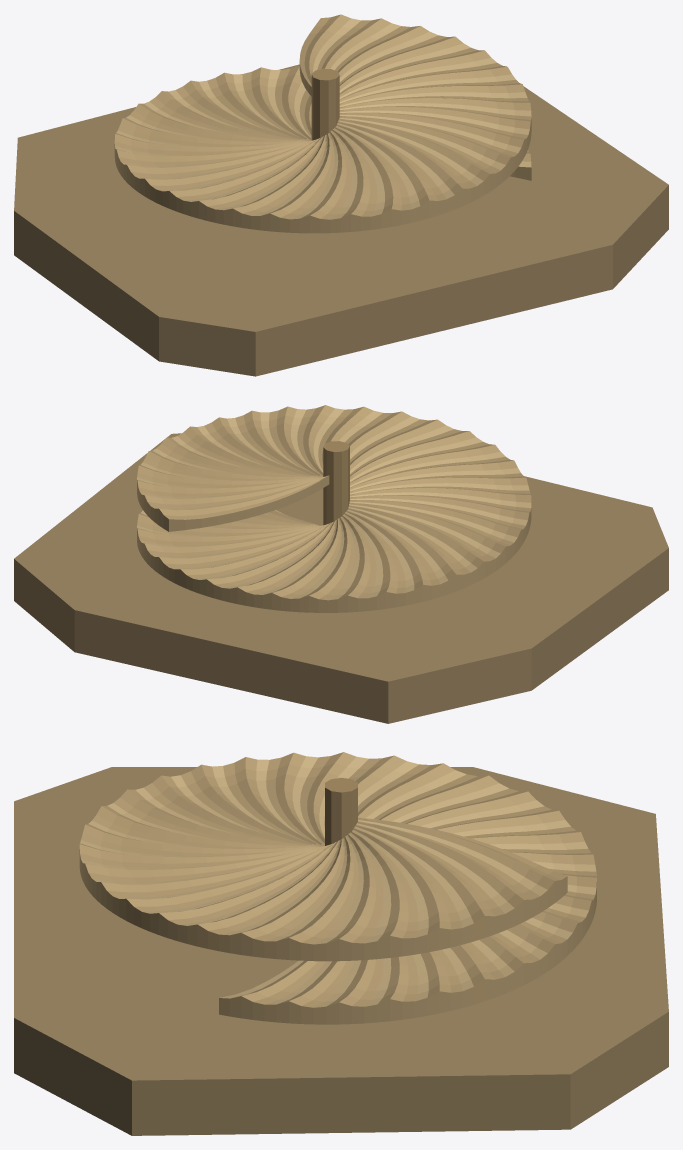
The model's file is zoophycos-spiral-spreite.glb.
3 renders of one model, top to bottom at view 1: azimuth 30°, elevation 25°; view 2: azimuth 150°, elevation 25°; view 3: azimuth 270°, elevation 25°, orthographic. The views are drawn at different scales.
Parts seen in each view (by area): view 1: solid-quiet-sediment-slab, broad-spiral-spreite-sheet-with-integrated-lamellae-and-marg, narrow-cylindrical-central-shaft; view 2: solid-quiet-sediment-slab, broad-spiral-spreite-sheet-with-integrated-lamellae-and-marg, narrow-cylindrical-central-shaft; view 3: solid-quiet-sediment-slab, broad-spiral-spreite-sheet-with-integrated-lamellae-and-marg, narrow-cylindrical-central-shaft.
Boxes of the visible parts, left/top/right/bottom form: solid-quiet-sediment-slab: left=14, top=64, right=668, bottom=376; broad-spiral-spreite-sheet-with-integrated-lamellae-and-marg: left=114, top=14, right=531, bottom=233; narrow-cylindrical-central-shaft: left=311, top=68, right=339, bottom=140; solid-quiet-sediment-slab: left=14, top=433, right=668, bottom=723; broad-spiral-spreite-sheet-with-integrated-lamellae-and-marg: left=137, top=405, right=531, bottom=612; narrow-cylindrical-central-shaft: left=323, top=441, right=349, bottom=525; solid-quiet-sediment-slab: left=14, top=767, right=668, bottom=1135; broad-spiral-spreite-sheet-with-integrated-lamellae-and-marg: left=79, top=752, right=596, bottom=1024; narrow-cylindrical-central-shaft: left=325, top=778, right=357, bottom=845.
Size of the model in its own units: 0.17 by 0.049 by 0.15.
